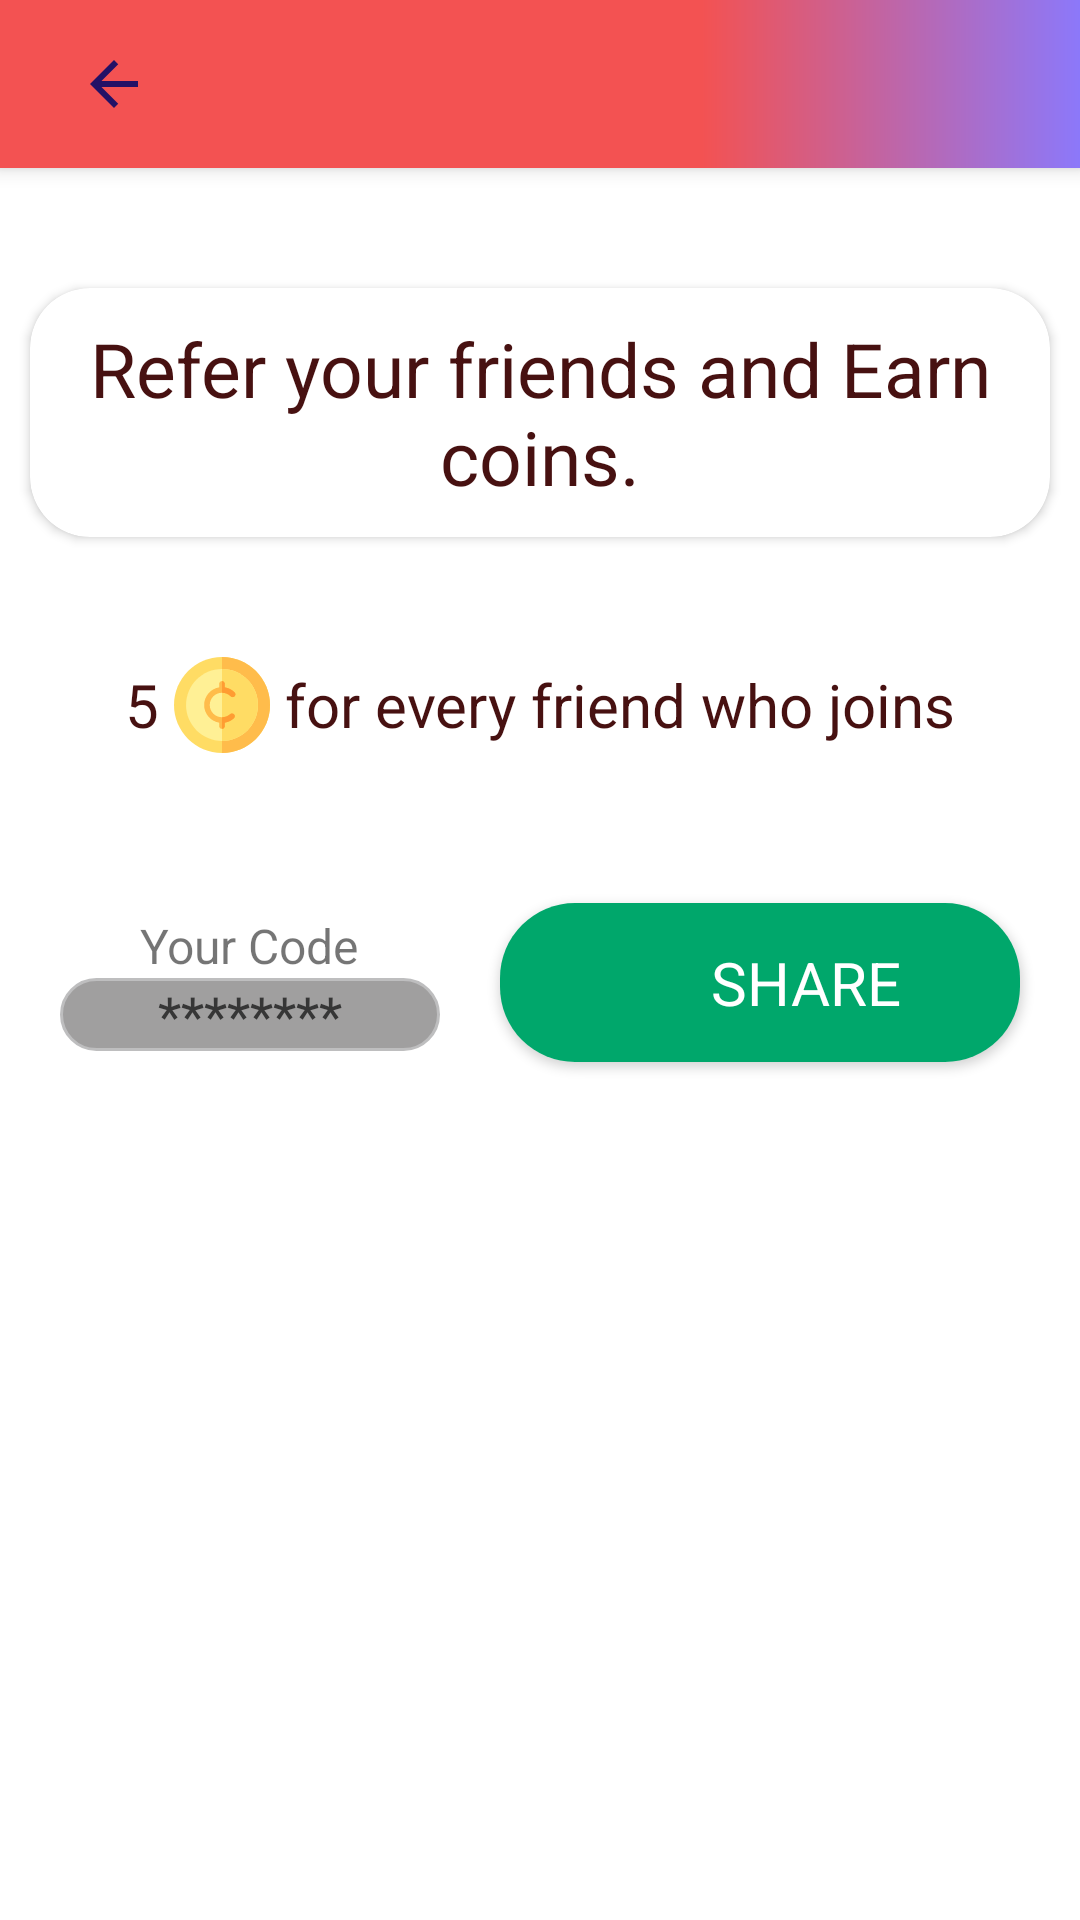

Screen size 1080px×1920px. Icon name, then its box in pixels as (x1, y1, x2, y2):
arrow back: (90, 60, 138, 108)
cent: (174, 657, 270, 753)
